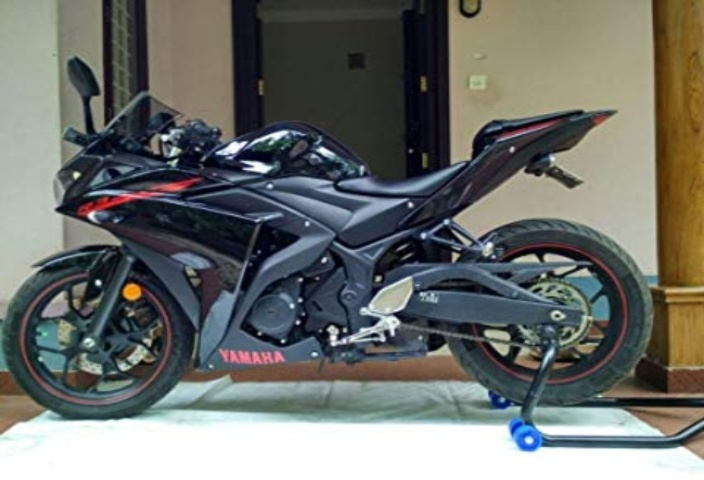motorcycle: (5, 42, 661, 427)
